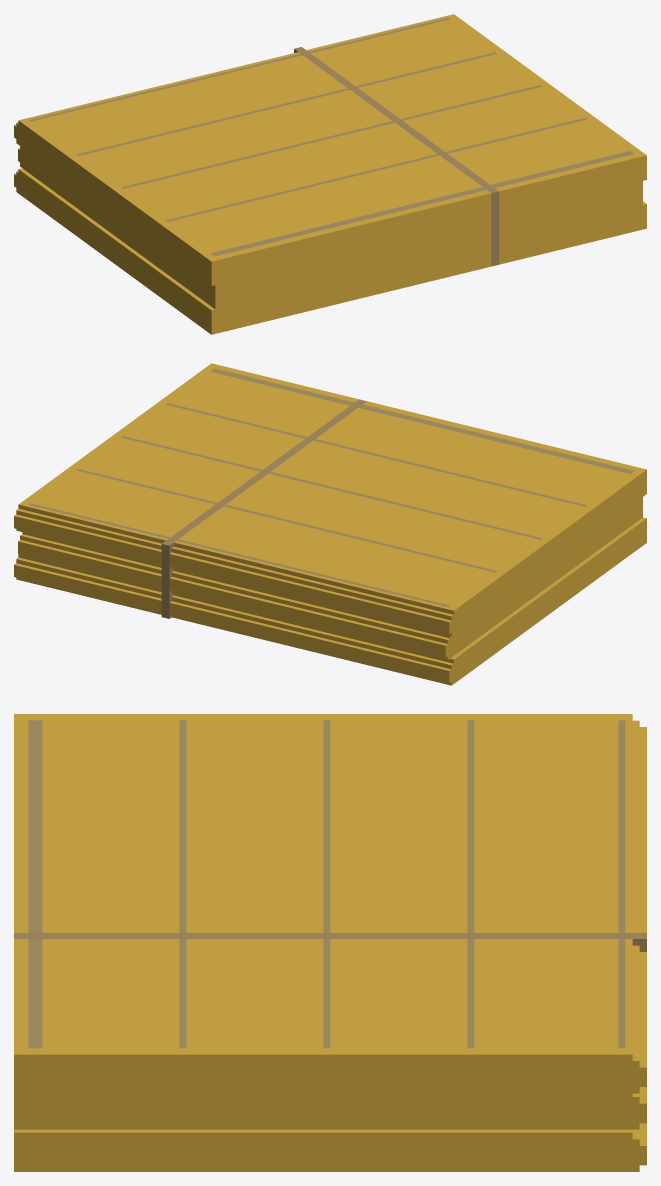
Rendered from makeshift_welding_blanket.glb.
The picture shows the model from 3 angles, top to bottom: view 1: azimuth 30°, elevation 25°; view 2: azimuth 150°, elevation 25°; view 3: azimuth 270°, elevation 25°; orthographic projection. The views are drawn at different scales.
Visible parts, largest first — view 1: makeshift_welding_blanket:compound; view 2: makeshift_welding_blanket:compound; view 3: makeshift_welding_blanket:compound.
Boxes of the visible parts, bbox=[...] form: makeshift_welding_blanket:compound: bbox=[14, 14, 646, 334]; makeshift_welding_blanket:compound: bbox=[14, 363, 646, 685]; makeshift_welding_blanket:compound: bbox=[14, 714, 646, 1171].
Bounding box in the file's own units: 0.448 × 0.072 × 0.352.
